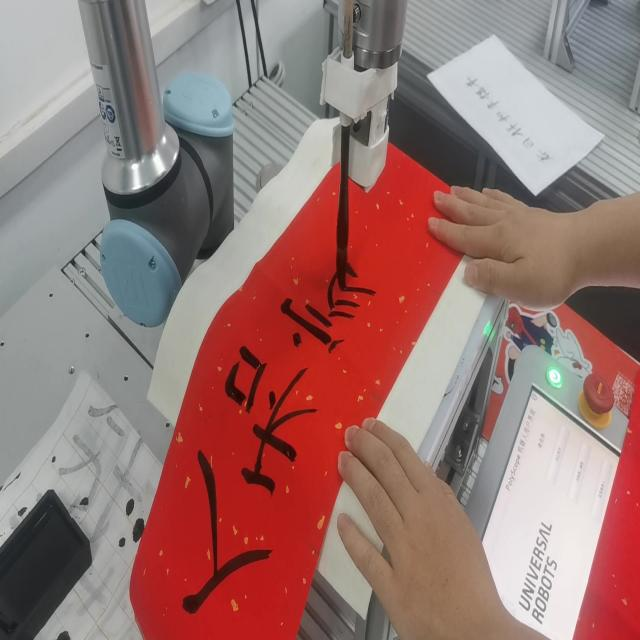head: (334, 249, 350, 291)
inkstone: (1, 487, 96, 640)
writing-brush: (330, 0, 356, 290)
